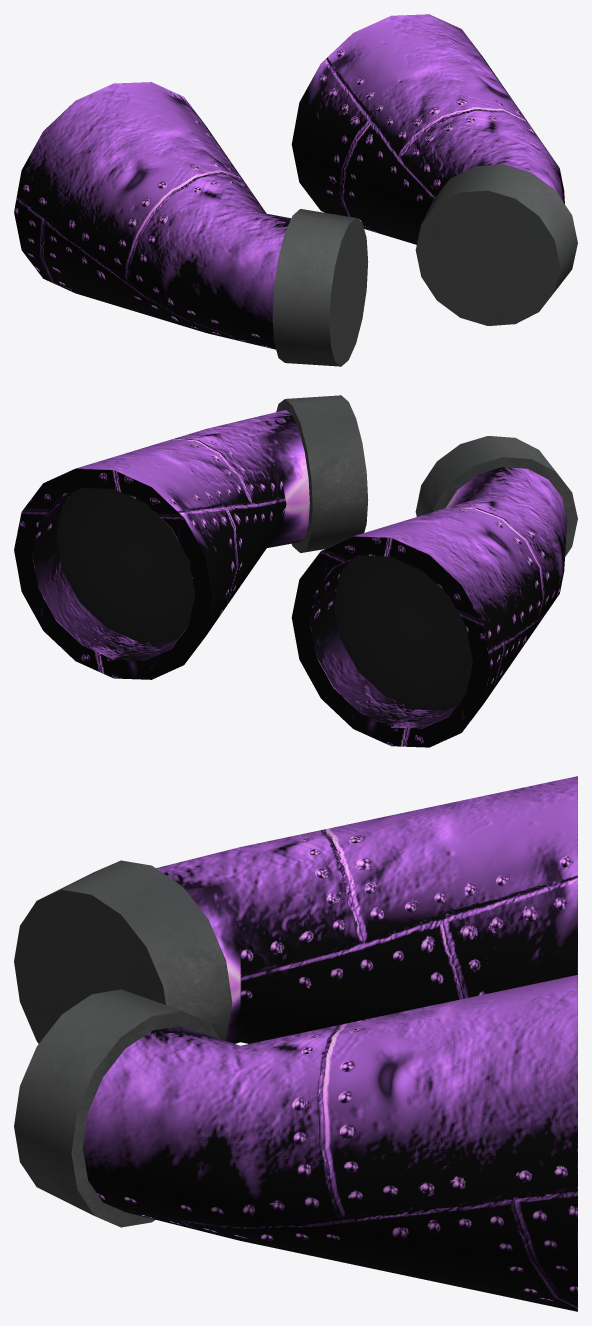
File: nozzle4NEW.fbx
The picture shows the model from 3 angles, top to bottom: view 1: azimuth 30°, elevation 25°; view 2: azimuth 150°, elevation 25°; view 3: azimuth 270°, elevation 25°; orthographic projection. The views are drawn at different scales.
Visible parts, largest first — view 1: nozzle4NEW; view 2: nozzle4NEW; view 3: nozzle4NEW.
Boxes of the visible parts, x1=… form: nozzle4NEW: x1=14, y1=14, x2=577, y2=366; nozzle4NEW: x1=14, y1=395, x2=577, y2=747; nozzle4NEW: x1=14, y1=776, x2=577, y2=1311.
Bounding box in the file's own units: 6.76 × 4.72 × 2.82.
1 material, 1 textured.
